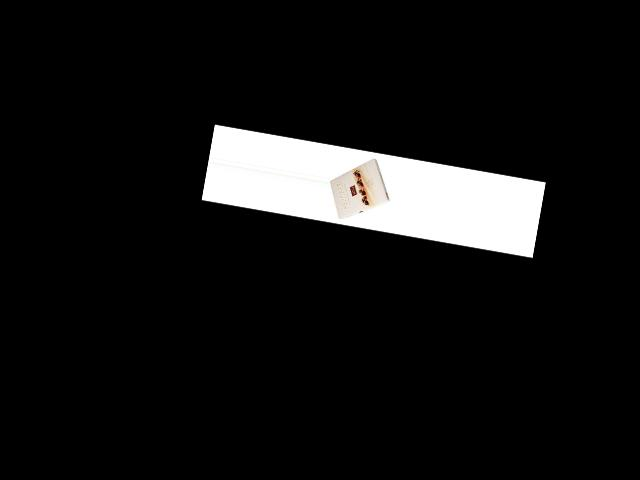chocolate: (324, 146, 398, 227)
